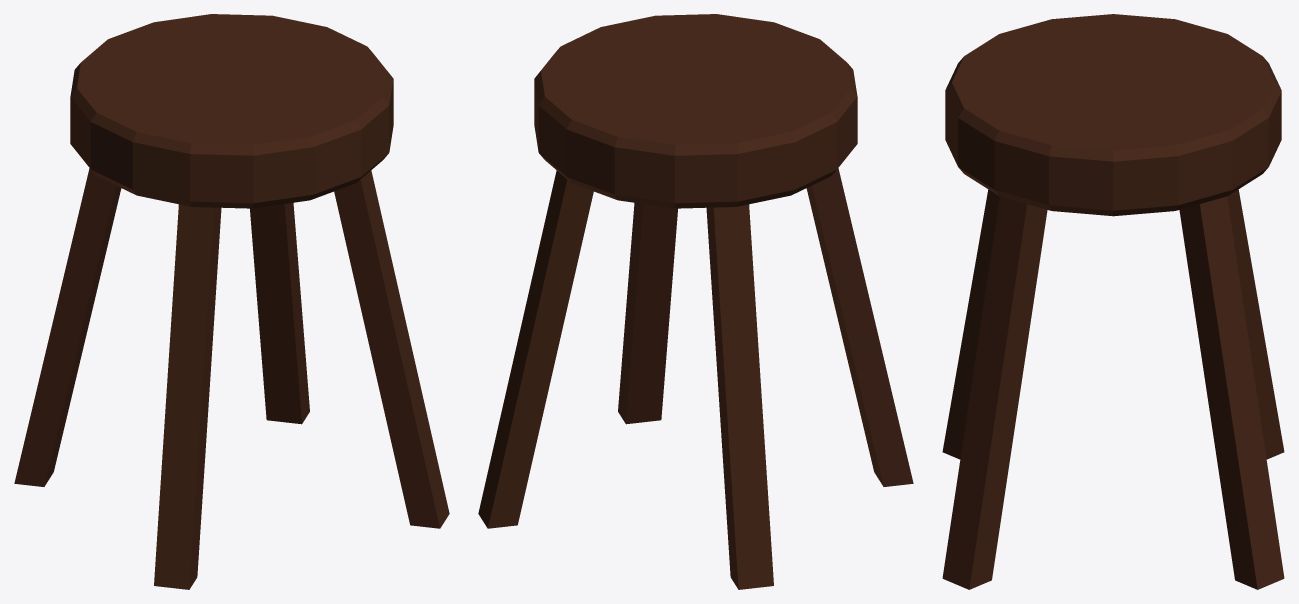
The model's file is Stool.fbx.
3 views of the same model, side by side, from view 1: azimuth 30°, elevation 25°; view 2: azimuth 150°, elevation 25°; view 3: azimuth 270°, elevation 25° (orthographic). The views are drawn at different scales.
Parts seen in each view (by area): view 1: Stool; view 2: Stool; view 3: Stool.
Boxes of the visible parts, left/top/right/bottom form: Stool: left=14, top=14, right=449, bottom=589; Stool: left=478, top=14, right=913, bottom=589; Stool: left=942, top=14, right=1284, bottom=589.
Bounding box in the file's own units: 197 × 266 × 191.
